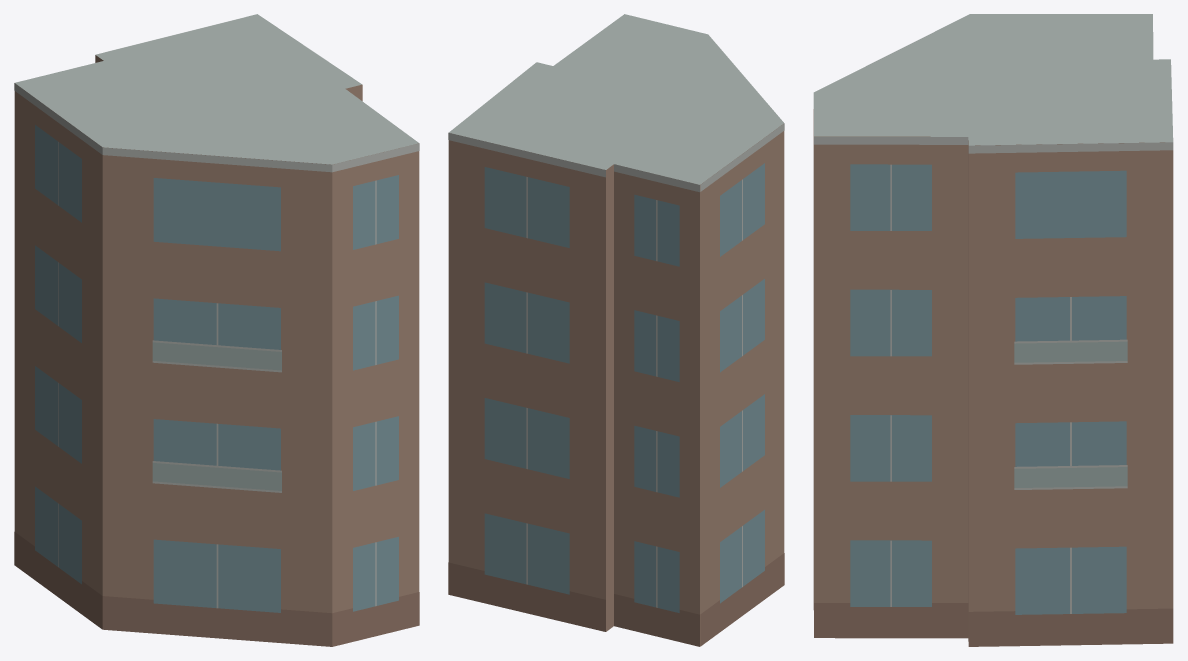
The model's file is survey-upis-32481636.glb.
3 views of the same model, side by side, from view 1: azimuth 30°, elevation 25°; view 2: azimuth 150°, elevation 25°; view 3: azimuth 270°, elevation 25° (orthographic). The views are drawn at different scales.
Visible parts, largest first — view 1: survey-upis-32481636.tmp; view 2: survey-upis-32481636.tmp; view 3: survey-upis-32481636.tmp.
Part boxes in pixels (bbox=[...]): survey-upis-32481636.tmp: bbox=[14, 14, 419, 646]; survey-upis-32481636.tmp: bbox=[448, 14, 784, 646]; survey-upis-32481636.tmp: bbox=[813, 14, 1173, 646].
Size of the model in its own units: 8.57 by 15.2 by 9.89.
